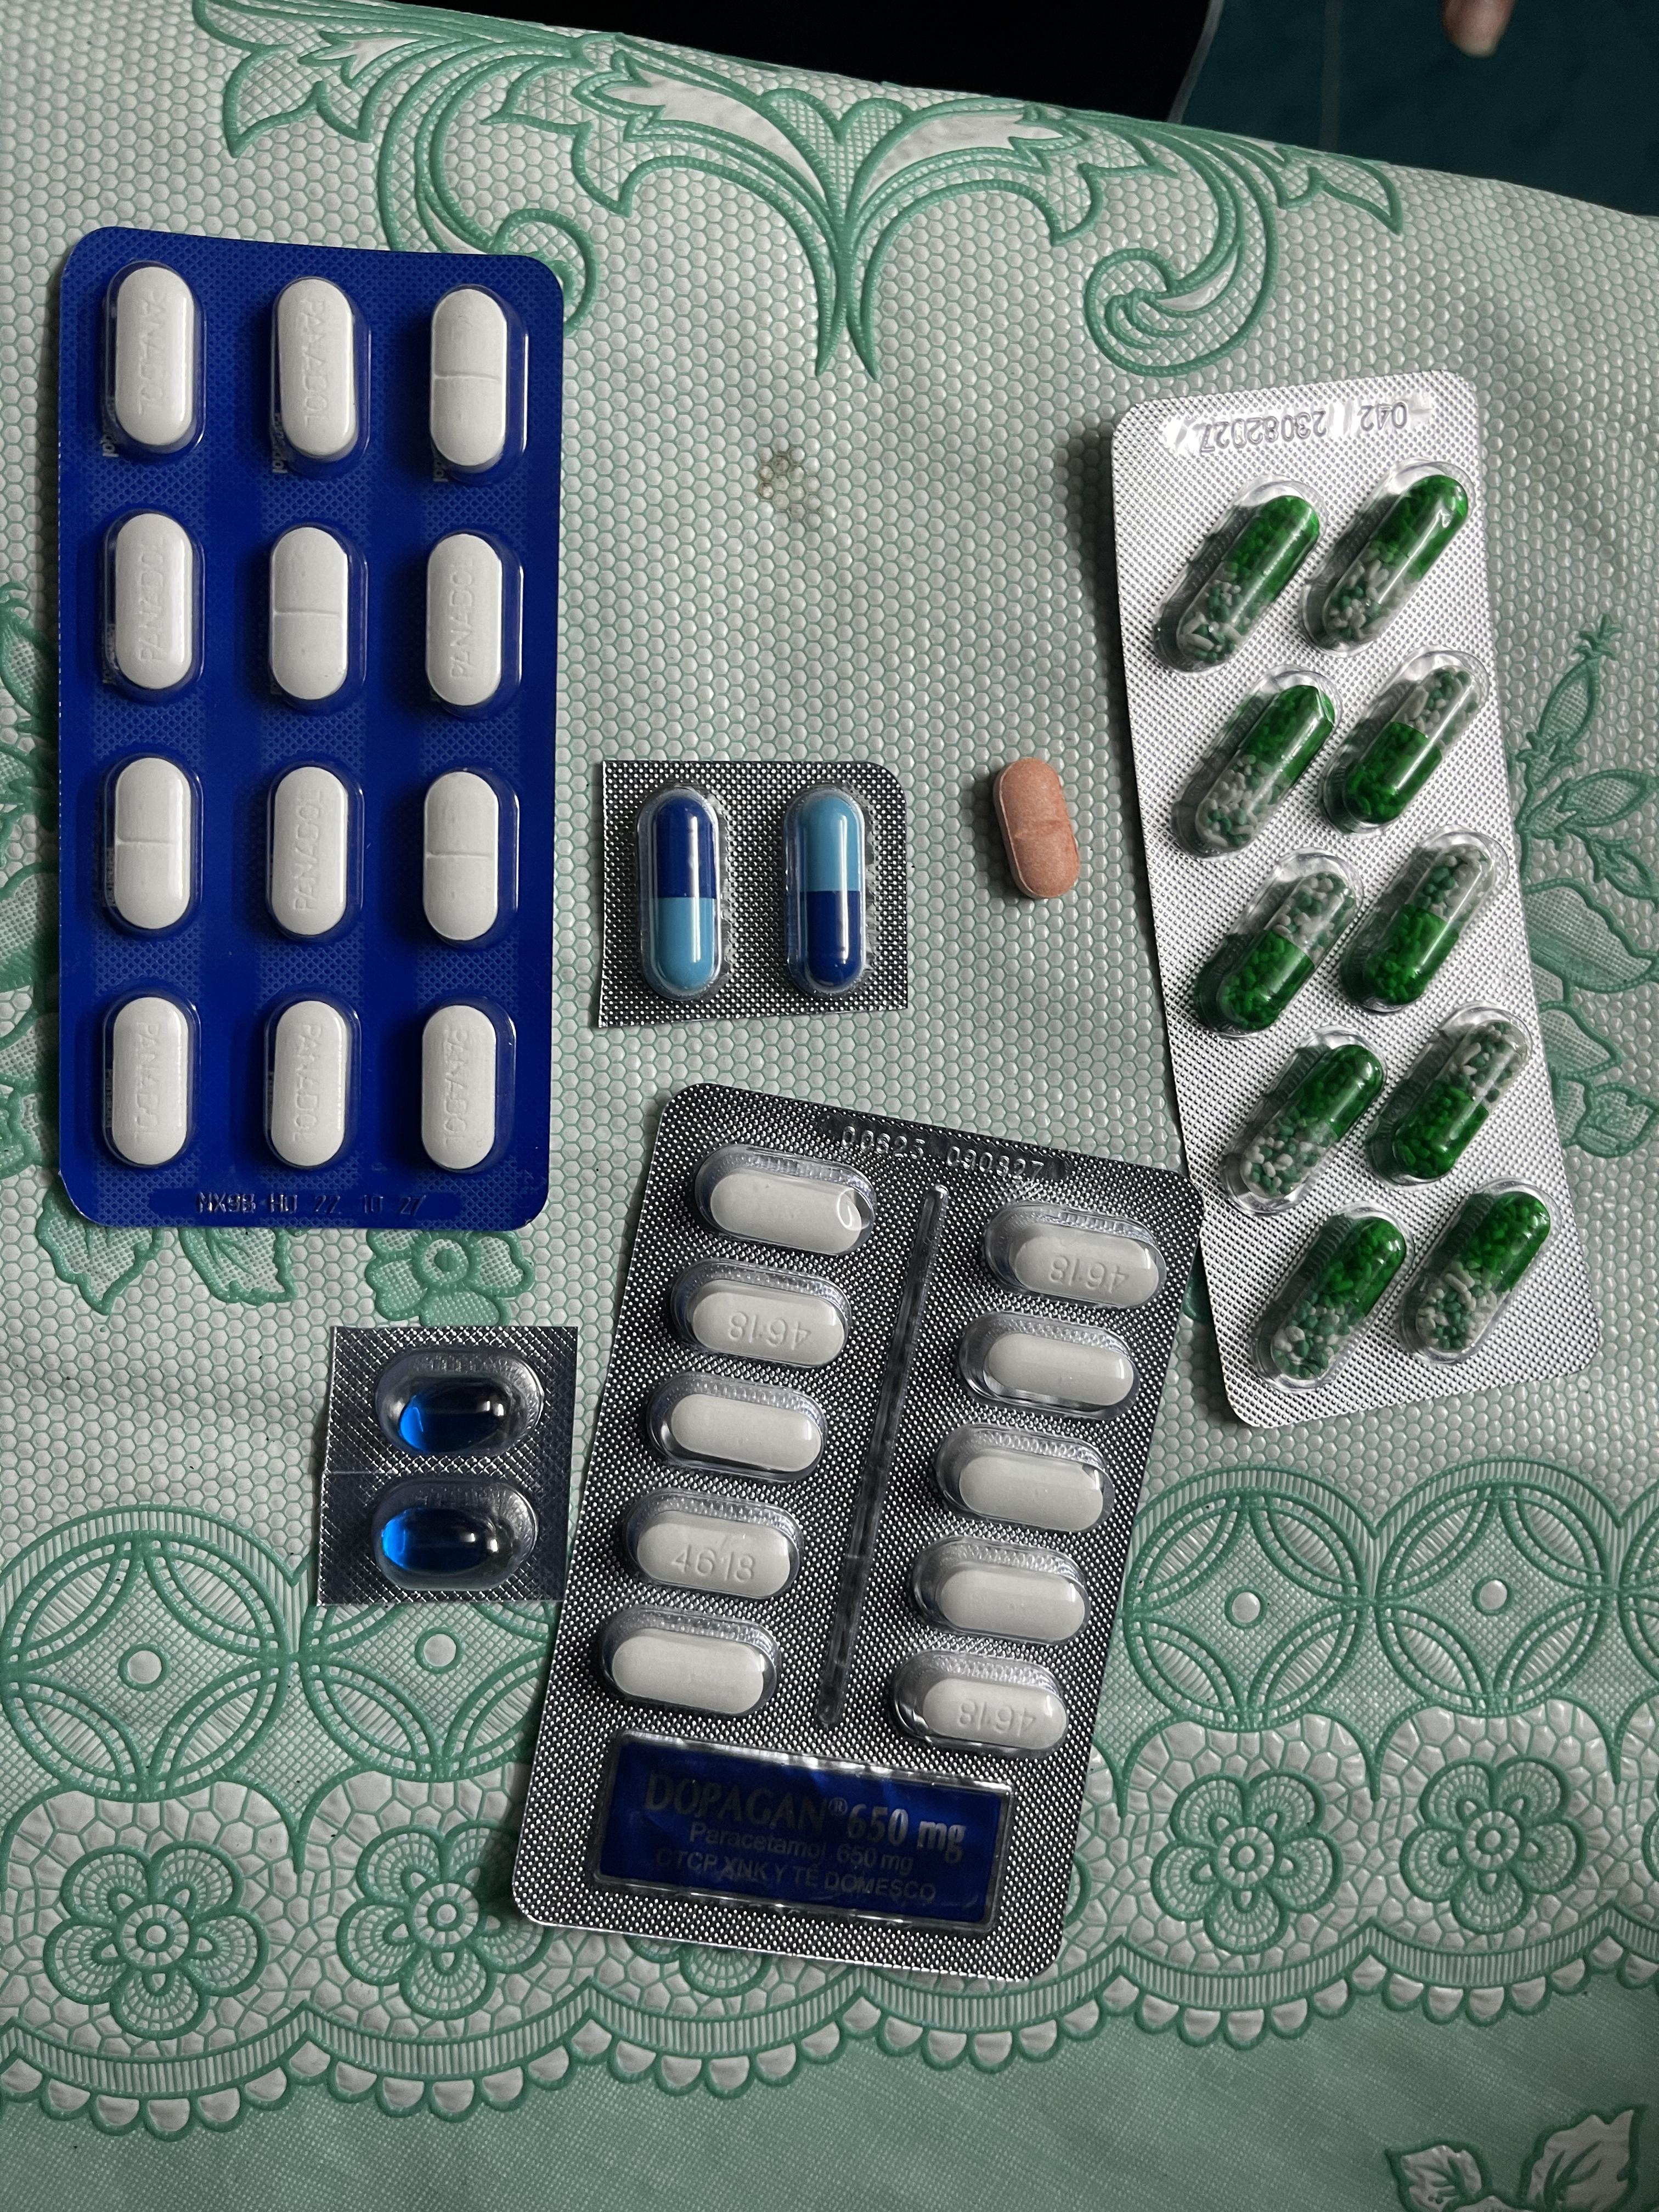Lincomyxin_500mg: (394, 1378, 518, 1454), (382, 1505, 502, 1580)
Loratadine_10mg: (993, 761, 1082, 900)
Paracetamol_350mg: (101, 512, 202, 704), (106, 261, 202, 460), (274, 277, 362, 474), (101, 991, 197, 1172), (105, 756, 197, 935), (429, 286, 512, 481), (423, 533, 512, 712), (268, 526, 354, 709), (267, 763, 354, 941), (423, 772, 509, 948), (265, 1000, 352, 1170), (420, 1005, 505, 1174)
Paracetamol_500mg: (695, 1144, 878, 1256), (626, 1494, 803, 1604), (671, 1263, 852, 1367), (983, 1202, 1154, 1310), (911, 1533, 1089, 1635), (650, 1378, 828, 1480), (962, 1315, 1136, 1418), (938, 1426, 1112, 1527), (608, 1629, 774, 1717), (920, 1679, 1061, 1750)
Paracetamol_650mg: (1364, 1007, 1530, 1183), (1321, 475, 1467, 646), (1209, 864, 1352, 1033), (1178, 495, 1319, 662), (1199, 686, 1335, 855), (1243, 1038, 1382, 1197), (1340, 667, 1478, 824), (1415, 1193, 1549, 1352), (1358, 843, 1490, 1001), (1277, 1217, 1408, 1374)
pill: (636, 784, 727, 1001), (786, 786, 877, 1000)
